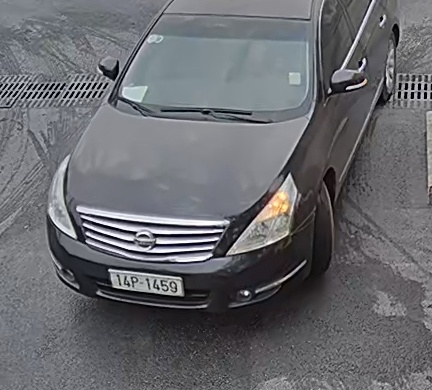vehicle plate: (104, 263, 187, 301)
